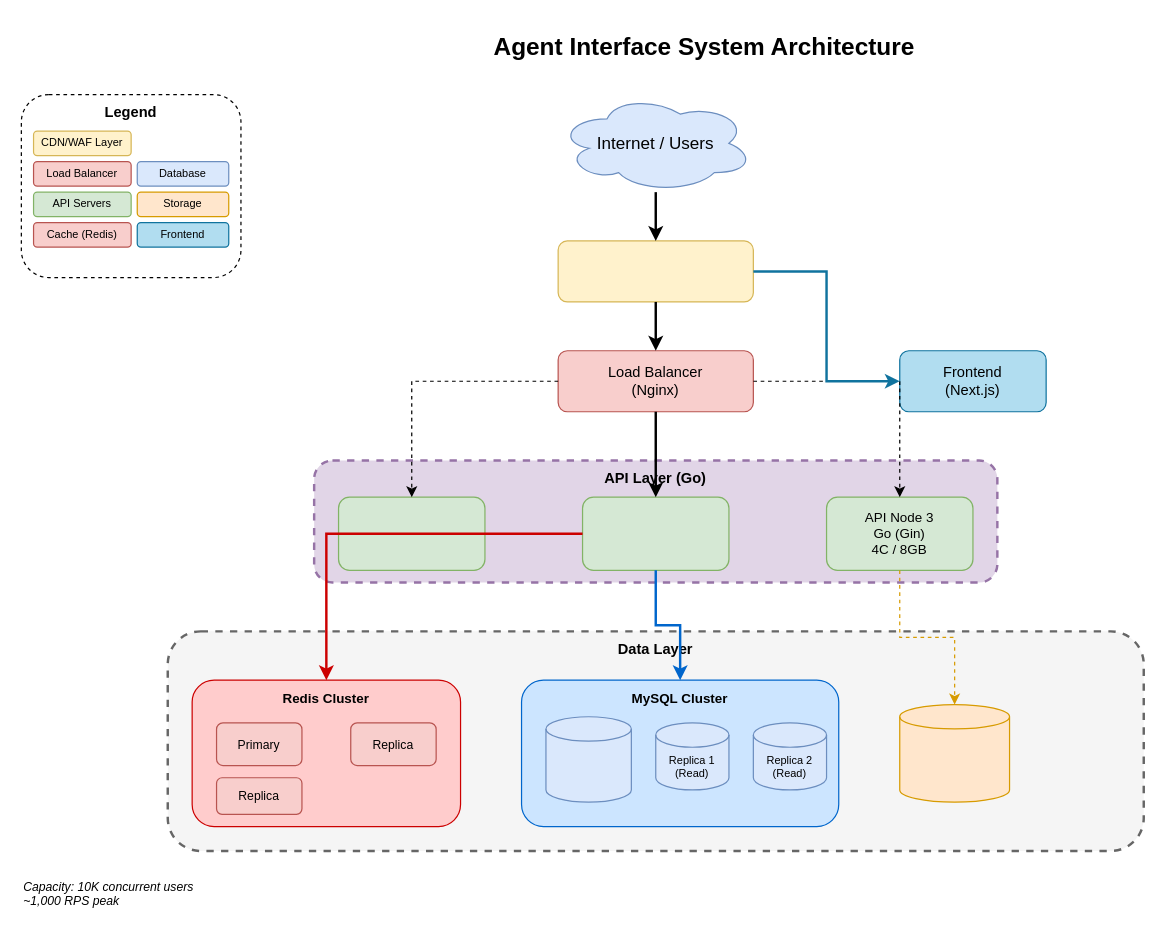
Some shapes in this 1166 by 932 pixel diagram are drawn without their labels. The shapes that lost their labels are listed below. From the top down, each one's centre as x and y in pixels, then its label:
At [655,271]: "CDN / WAF (CloudFlare)".
At [411,533]: "API Node 1 Go (Gin) 4C / 8GB".
At [655,533]: "API Node 2 Go (Gin) 4C / 8GB".
At [588,759]: "Primary (R/W) 8C/32GB".
At [954,752]: "Object Storage (S3) Files/Docs".
